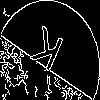K: (25, 25, 65, 82)
